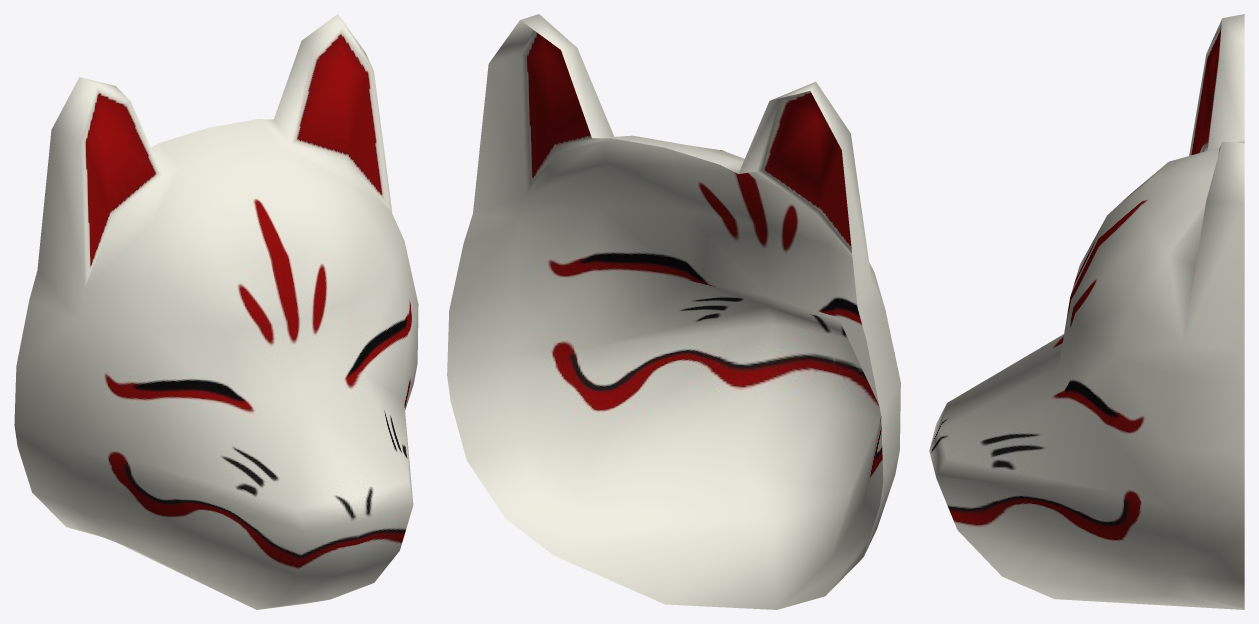
File: Fox1.fbx
3 views of the same model, side by side, from view 1: azimuth 30°, elevation 25°; view 2: azimuth 150°, elevation 25°; view 3: azimuth 270°, elevation 25° (orthographic). The views are drawn at different scales.
Visible parts, largest first — view 1: Fox_1; view 2: Fox_1; view 3: Fox_1.
Part boxes in pixels (bbox=[...]): Fox_1: bbox=[14, 14, 418, 609]; Fox_1: bbox=[447, 14, 900, 609]; Fox_1: bbox=[929, 14, 1244, 609].
Size of the model in its own units: 53.66 by 64.54 by 36.8.
1 material, 1 textured.
